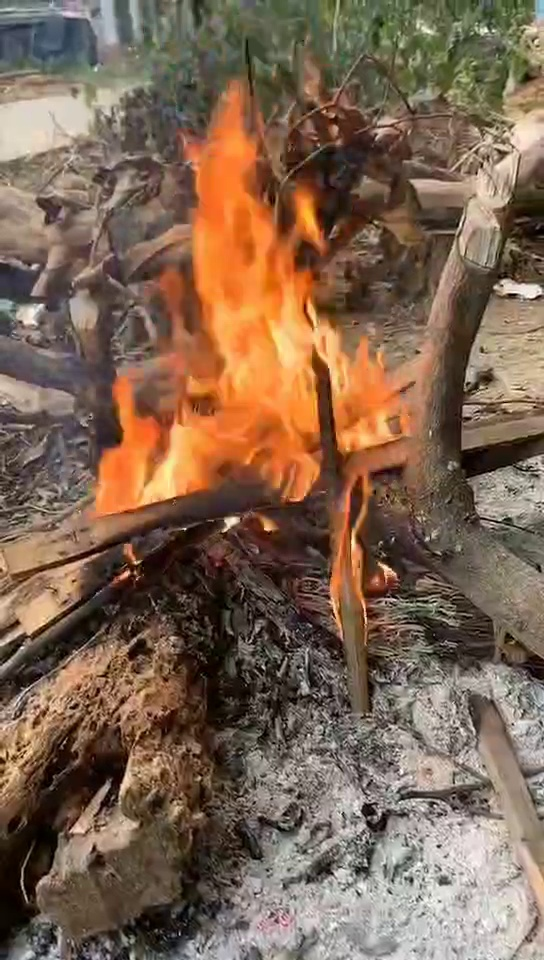fire: (138, 160, 390, 503)
